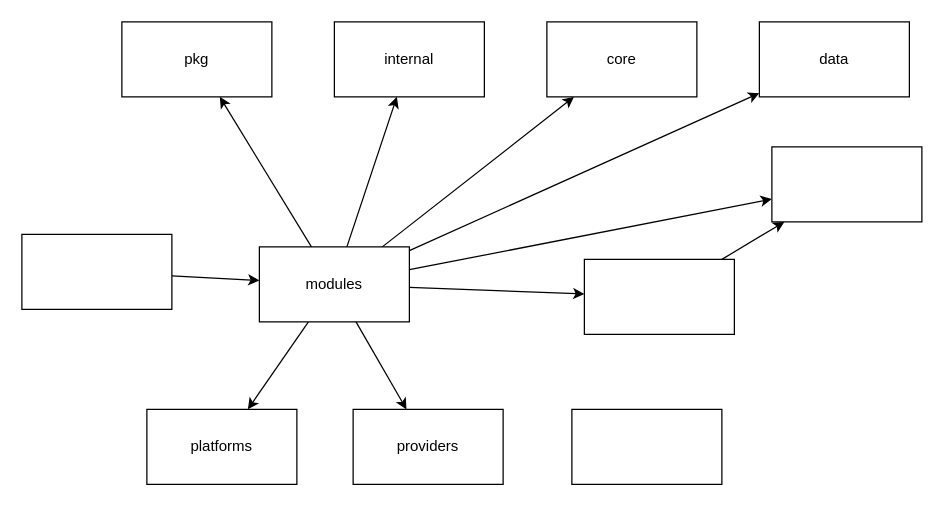
This 944x506 diagram has some shape labels left out. The shapes that lost their labels are listed below. From the top down, each one's box as (x1, y1, x2, y2) in pixels, then its label:
(771, 146, 922, 222): c omponents
(21, 233, 172, 309): cmd
(583, 258, 734, 334): application
(571, 408, 722, 484): templates
